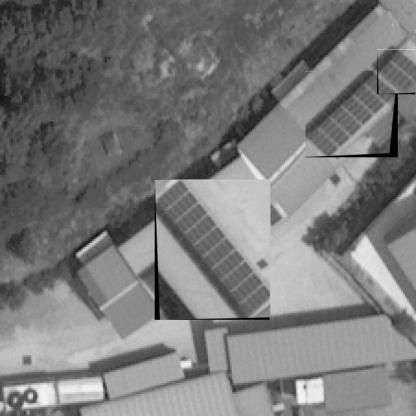solar-pv-panel: (155, 179, 270, 318), (306, 71, 396, 156), (378, 50, 415, 93)
